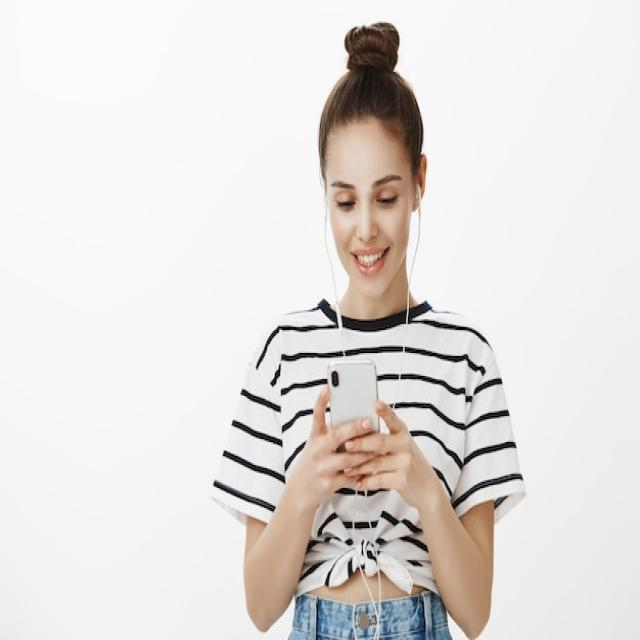Earphone: (322, 181, 422, 640)
